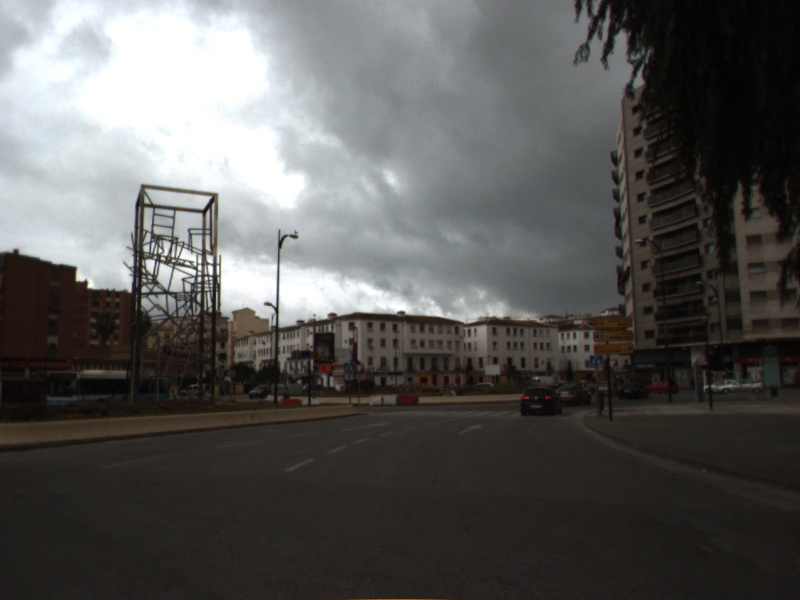STRAIGHT: (456, 422, 485, 436)
